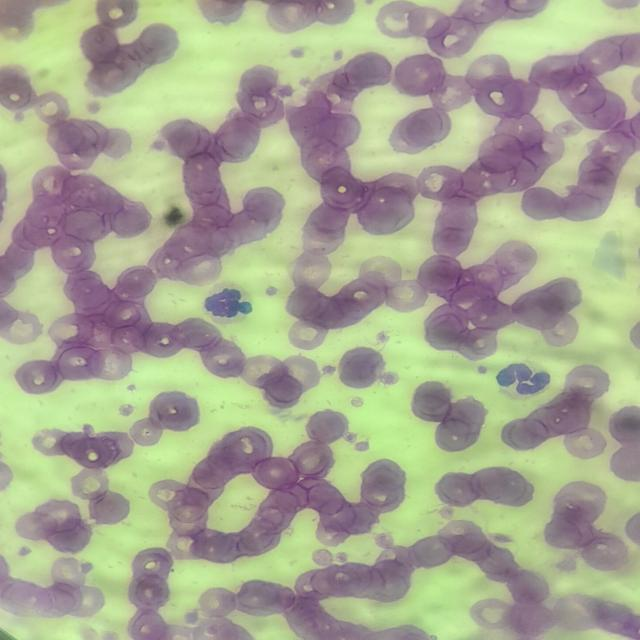Neutrofilo: (493, 361, 553, 401), (204, 281, 255, 326)
